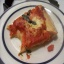pizza: (9, 4, 54, 51)
